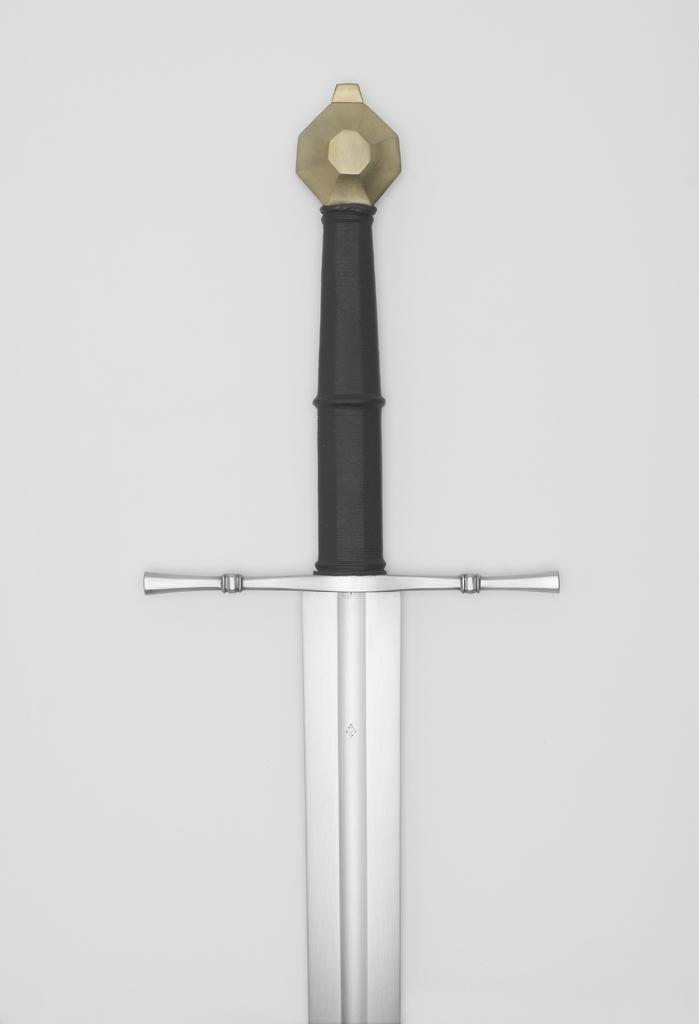Sword: (144, 84, 563, 1023)
